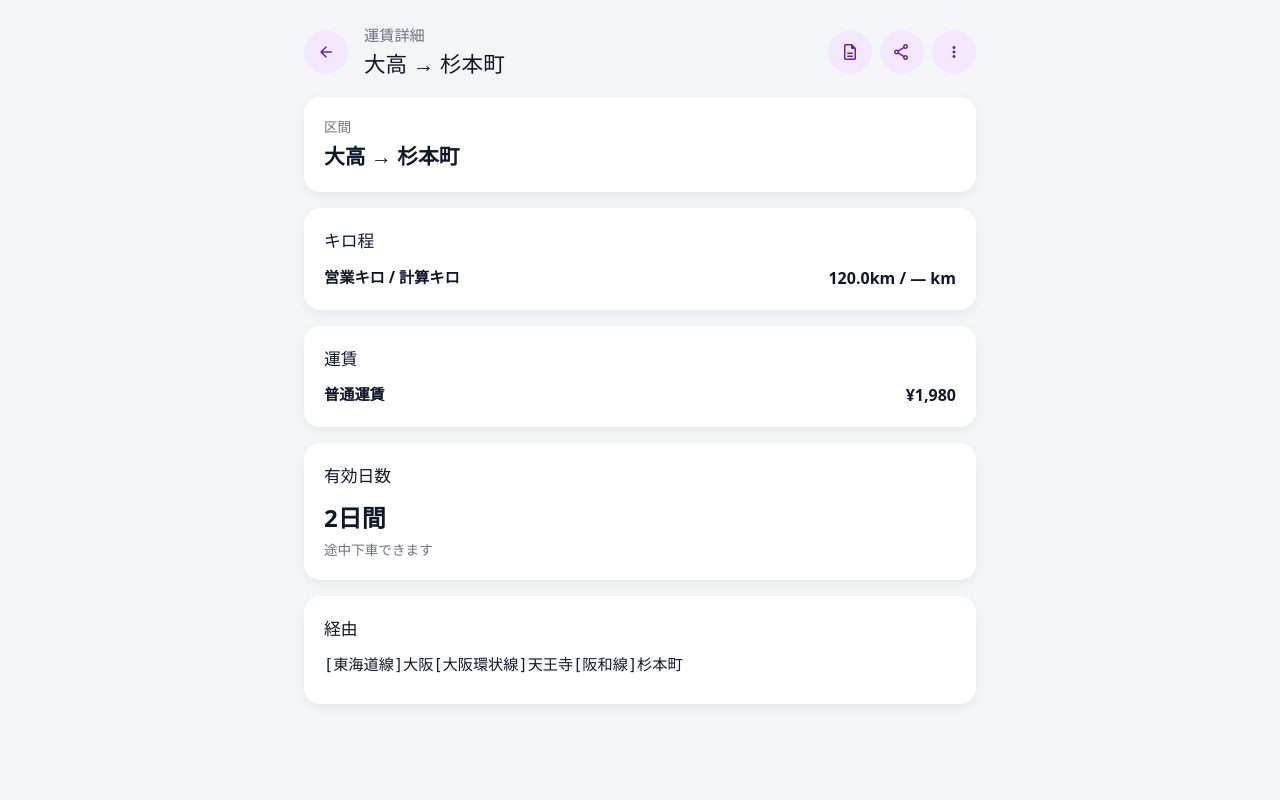
Test: /detail/+page.svelte › shows fare option menu when isFareOptEnabled is omitted but option flag is available
Click the button named "メニュー" at (954,52), box [932,30,976,74]
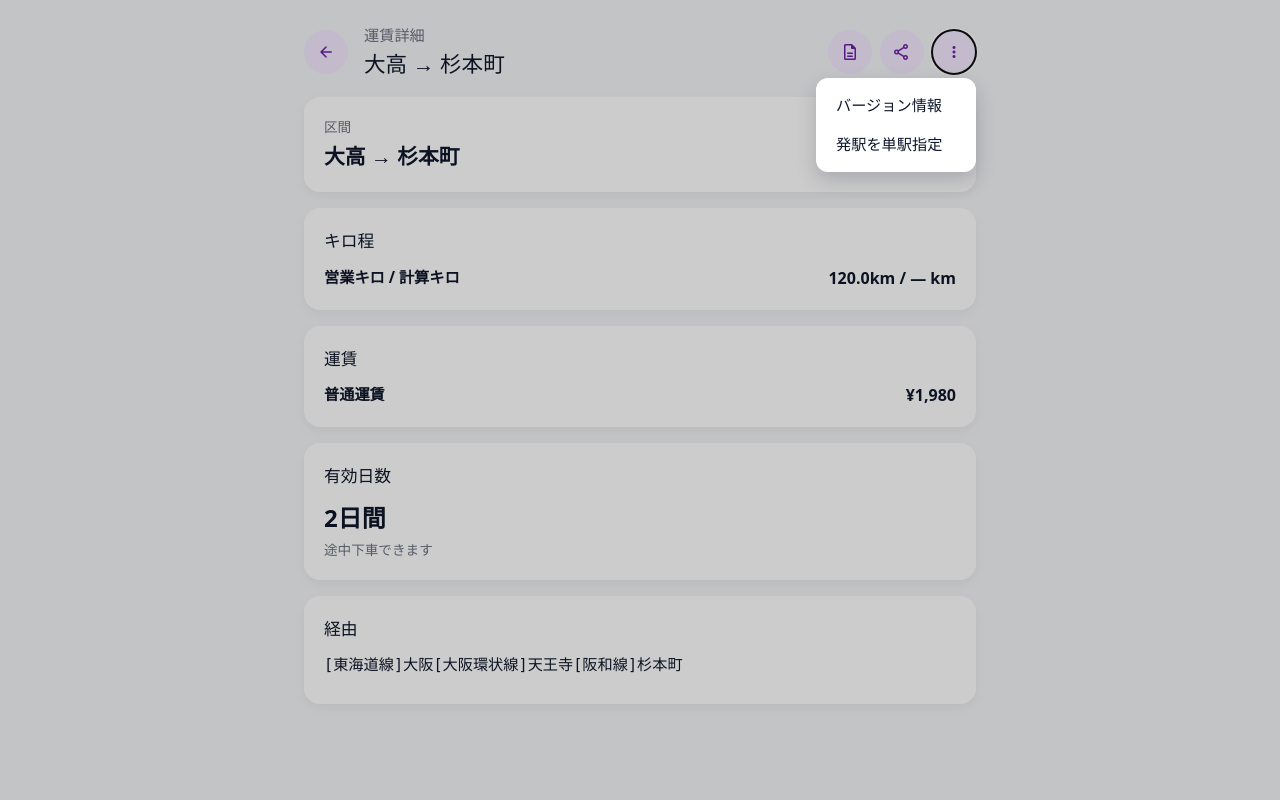
Result: the menu item "発駅を単駅指定" is shown at [824,125,968,164]
Result: the menu item "バージョン情報" is shown at [824,86,968,125]
